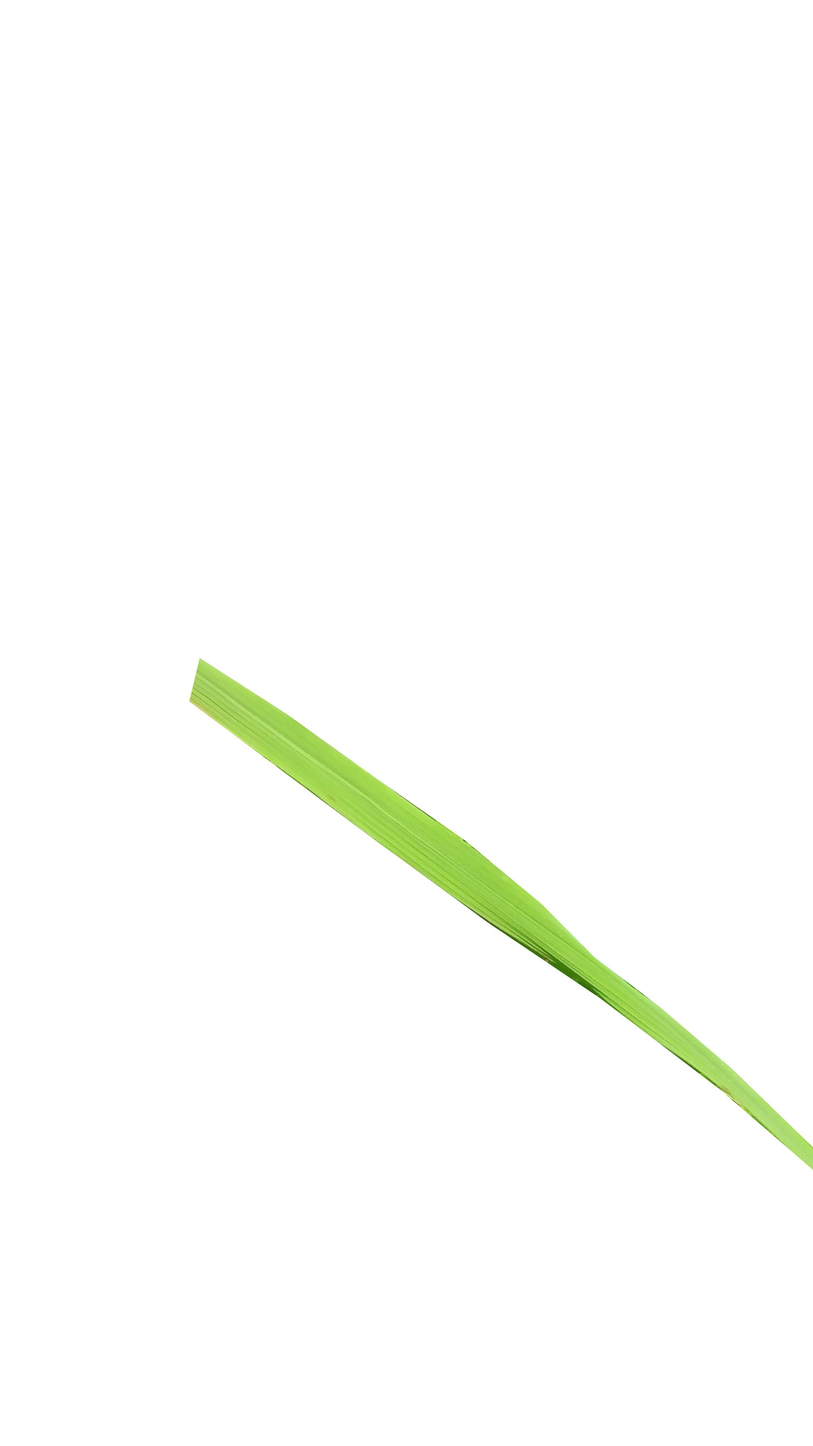Tungro: (188, 661, 813, 1177)
